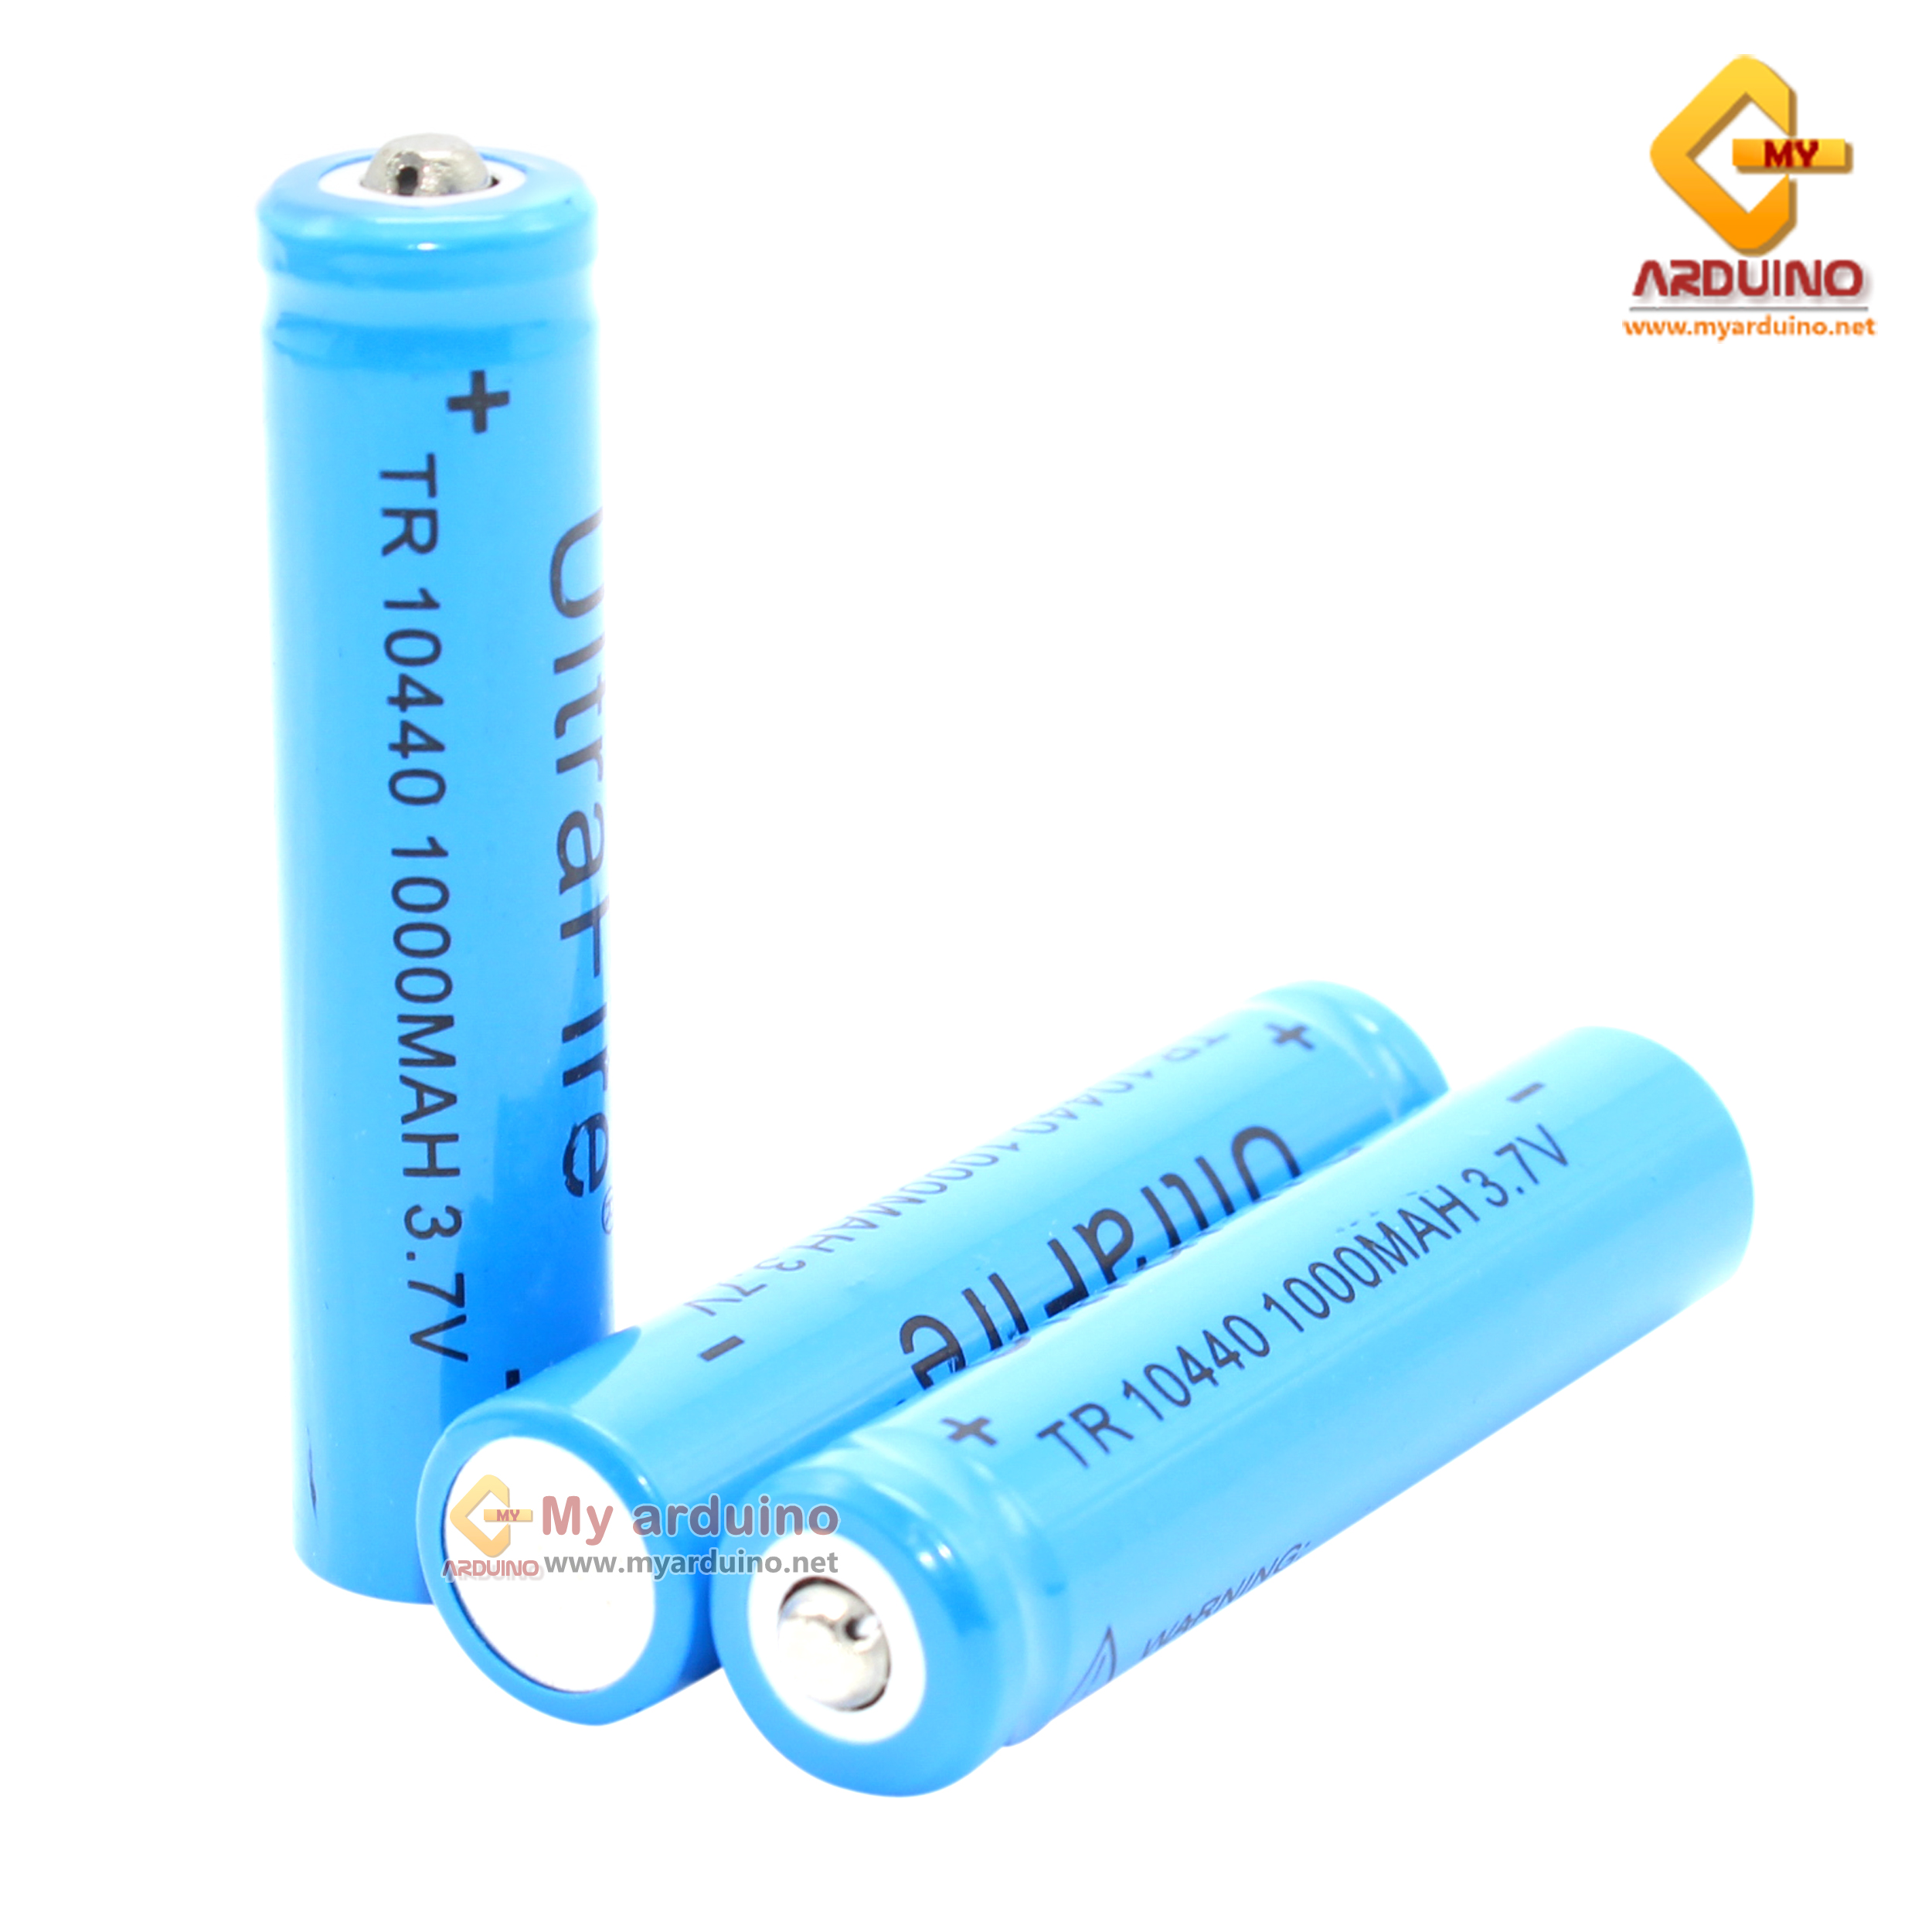Battery: (699, 1024, 1762, 1798), (409, 978, 1451, 1732), (246, 117, 632, 1615)
